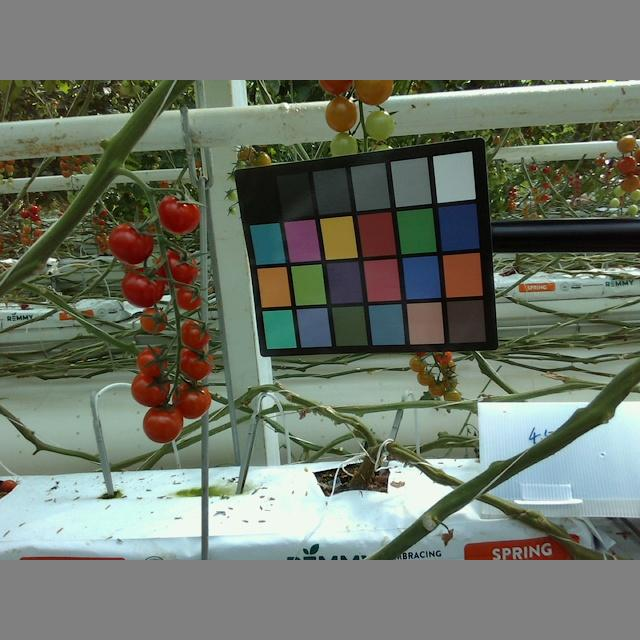green: (365, 109, 396, 140), (328, 130, 358, 158)
pink: (323, 94, 358, 130), (354, 81, 396, 106), (426, 376, 446, 399), (406, 356, 430, 372), (415, 369, 436, 386), (442, 362, 456, 378)
red: (108, 223, 155, 265), (120, 268, 165, 309), (141, 401, 182, 443), (157, 195, 201, 233), (129, 370, 173, 406), (170, 381, 211, 419), (157, 250, 197, 288), (174, 347, 213, 382), (177, 319, 211, 350), (135, 348, 168, 378), (140, 304, 170, 334), (176, 285, 202, 311)
